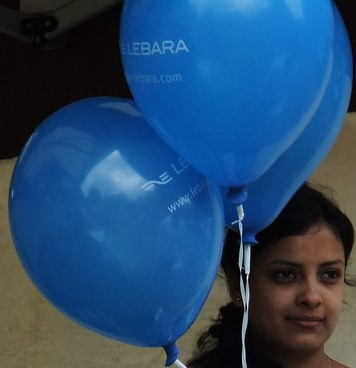Balloon: (10, 96, 226, 346), (119, 1, 334, 184)
